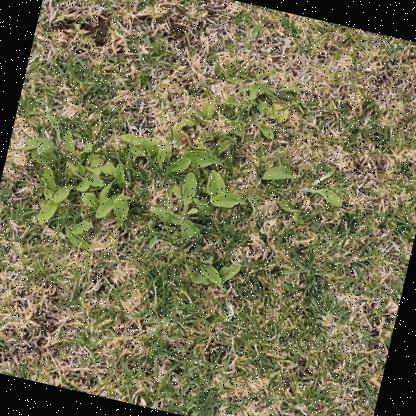Weeds: (3, 31, 367, 314)
